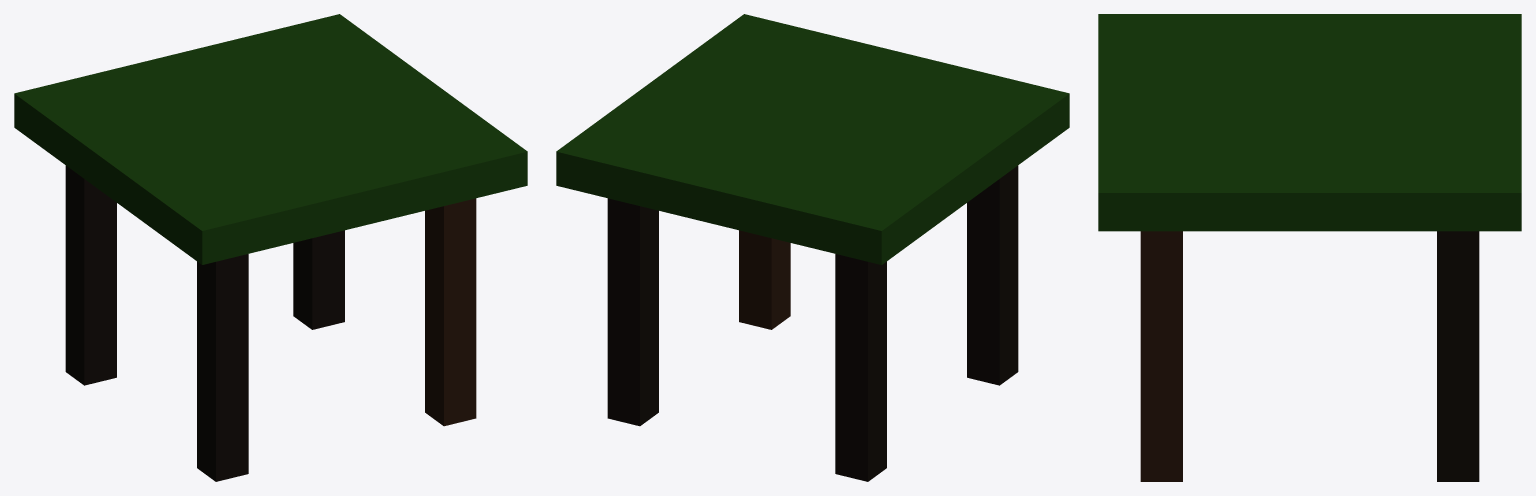
The model's file is bettertable.obj.
3 renders of one model, left to right at view 1: azimuth 30°, elevation 25°; view 2: azimuth 150°, elevation 25°; view 3: azimuth 270°, elevation 25°, orthographic. The views are drawn at different scales.
Parts seen in each view (by area): view 1: Cube, Cube.002, Cube.001, Cube.004, Cube.003; view 2: Cube, Cube.004, Cube.003, Cube.002, Cube.001; view 3: Cube, Cube.001, Cube.003.
Part boxes in pixels (x1,y1,x2,y2): Cube: (14, 14, 527, 264); Cube.002: (197, 254, 248, 481); Cube.001: (425, 198, 476, 426); Cube.004: (65, 165, 116, 385); Cube.003: (293, 230, 344, 329); Cube: (556, 14, 1069, 264); Cube.004: (835, 254, 886, 481); Cube.003: (607, 198, 658, 426); Cube.002: (967, 165, 1018, 385); Cube.001: (739, 230, 790, 329); Cube: (1098, 14, 1521, 231); Cube.001: (1140, 231, 1182, 481); Cube.003: (1437, 231, 1479, 481).
Size of the model in its own units: 10 by 8 by 10.
